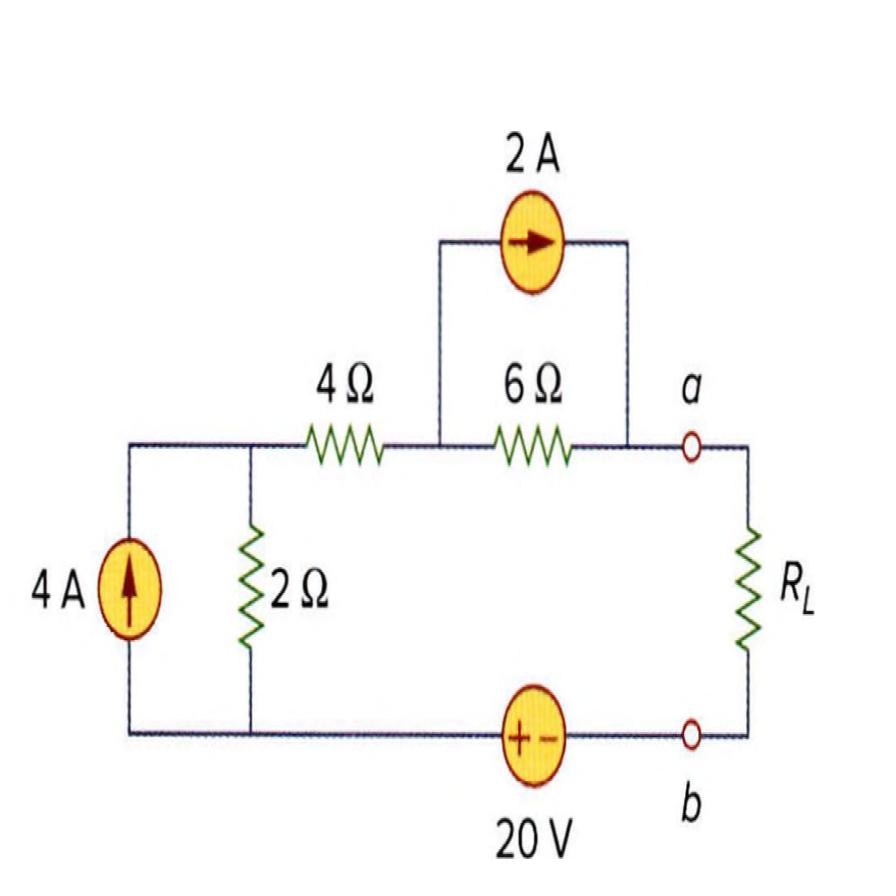I1: (482, 180, 575, 312), (86, 531, 174, 654)
R1: (293, 402, 395, 480), (479, 410, 578, 489)
R2: (718, 509, 774, 671), (223, 503, 272, 656)
V4: (486, 660, 576, 802)
